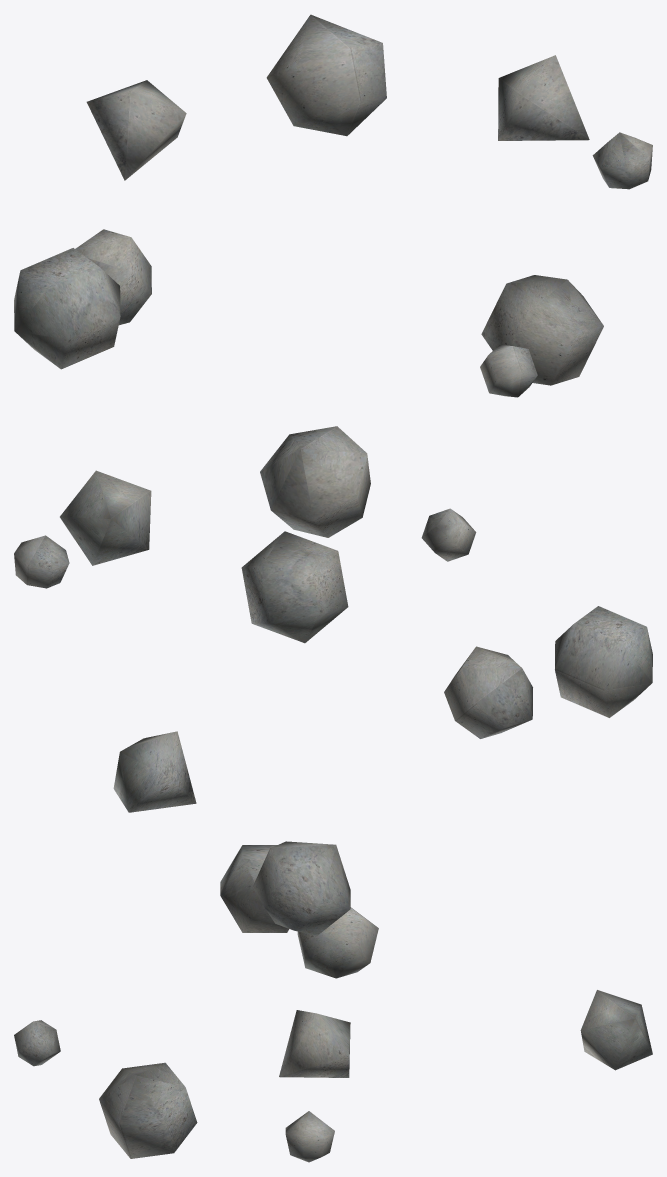
Rendered from stone5.obj.
3 renders of one model, top to bottom at view 1: azimuth 30°, elevation 25°; view 2: azimuth 150°, elevation 25°; view 3: azimuth 270°, elevation 25°, orthographic. The views are drawn at different scales.
Parts seen in each view (by area): view 1: Sphere005, Sphere001, Sphere008, Sphere003, Sphere007, Sphere004, Sphere006, Sphere002; view 2: Sphere005, Sphere008, Sphere001, Sphere003, Sphere004, Sphere007, Sphere006, Sphere002; view 3: Sphere005, Sphere008, Sphere007, Sphere003, Sphere004, Sphere001, Sphere006, Sphere002.
Boxes of the visible parts, box(x1,y1,x2,y2) form: Sphere005: box(266, 14, 386, 136); Sphere001: box(14, 248, 120, 369); Sphere008: box(481, 275, 603, 385); Sphere003: box(498, 55, 589, 140); Sphere007: box(86, 80, 186, 180); Sphere004: box(75, 229, 151, 325); Sphere006: box(592, 132, 652, 189); Sphere002: box(480, 345, 537, 397); Sphere005: box(260, 426, 370, 537); Sphere008: box(241, 531, 348, 643); Sphere001: box(555, 606, 652, 717); Sphere003: box(60, 470, 151, 565); Sphere004: box(444, 646, 532, 738); Sphere007: box(113, 731, 196, 812); Sphere006: box(14, 535, 69, 588); Sphere002: box(421, 508, 476, 561); Sphere005: box(252, 841, 350, 935); Sphere008: box(99, 1062, 197, 1158); Sphere007: box(580, 990, 652, 1070); Sphere003: box(279, 1010, 350, 1077); Sphere004: box(297, 907, 378, 978); Sphere001: box(220, 845, 289, 932); Sphere006: box(285, 1111, 334, 1162); Sphere002: box(14, 1020, 60, 1066).
Size of the model in its own units: 178 by 80.43 by 179.
1 material, 1 textured.
